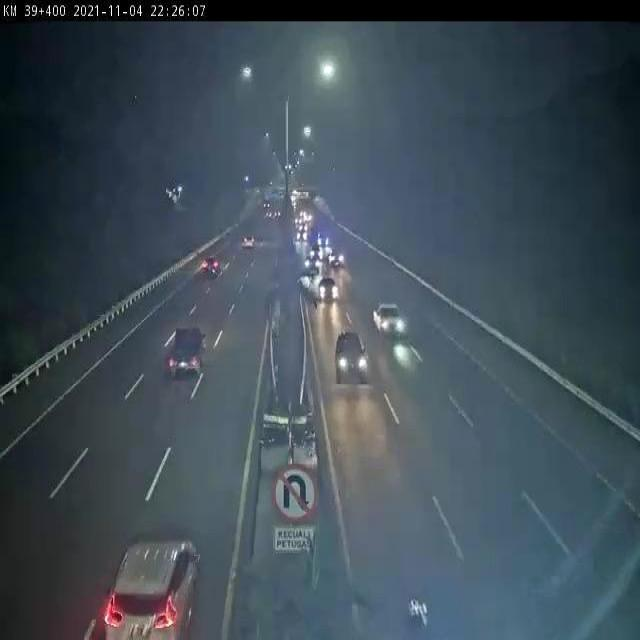car: (373, 481, 460, 600), (113, 526, 200, 634), (336, 325, 365, 383), (377, 292, 404, 339), (198, 253, 219, 287), (318, 265, 332, 300), (240, 235, 258, 260)
truck-s-: (155, 319, 207, 396)
